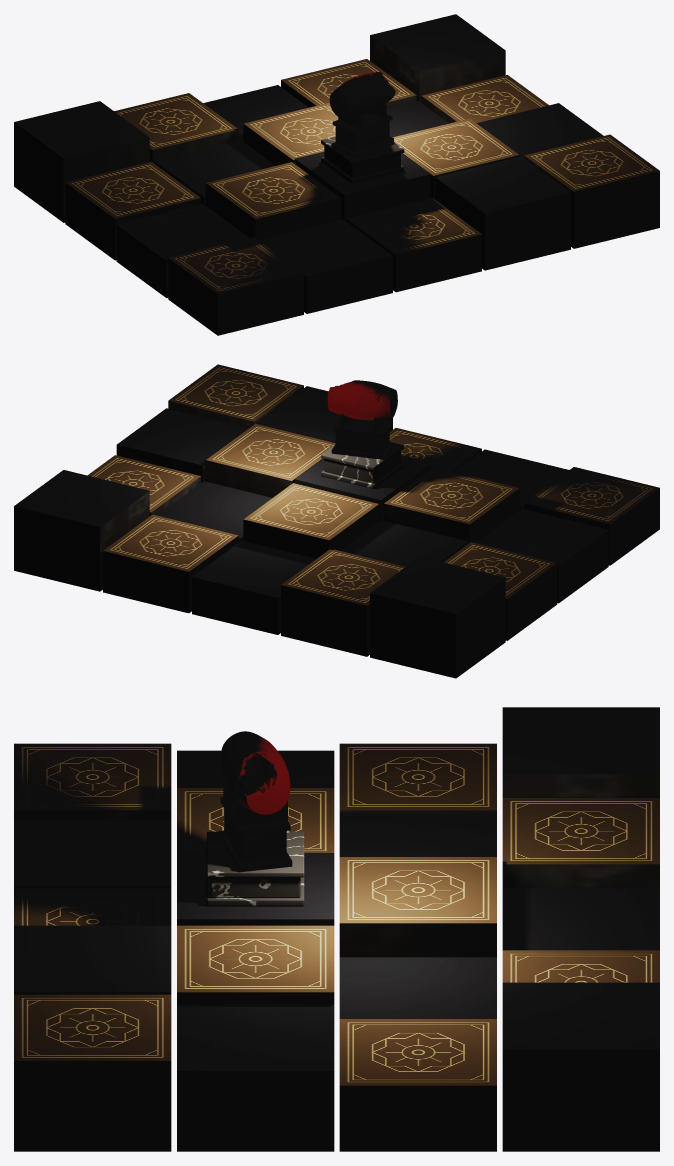
File: solo.glb
3 renders of one model, top to bottom at view 1: azimuth 30°, elevation 25°; view 2: azimuth 150°, elevation 25°; view 3: azimuth 270°, elevation 25°, orthographic. The views are drawn at different scales.
Visible parts, largest first — view 1: board, piece-cyrus, plinth-cyrus; view 2: board, piece-cyrus, plinth-cyrus; view 3: board, piece-cyrus, plinth-cyrus.
Part boxes in pixels (box(x1,y1,x2,y2)): board: box(14, 14, 659, 335); piece-cyrus: box(329, 72, 395, 157); plinth-cyrus: box(321, 136, 404, 183); board: box(14, 364, 659, 678); piece-cyrus: box(327, 380, 397, 459); plinth-cyrus: box(321, 443, 404, 488); board: box(14, 707, 659, 1151); piece-cyrus: box(219, 731, 292, 871); plinth-cyrus: box(206, 831, 304, 906).
Size of the model in its own units: 7.45 by 2.39 by 5.95.
3 materials, 3 textured.
